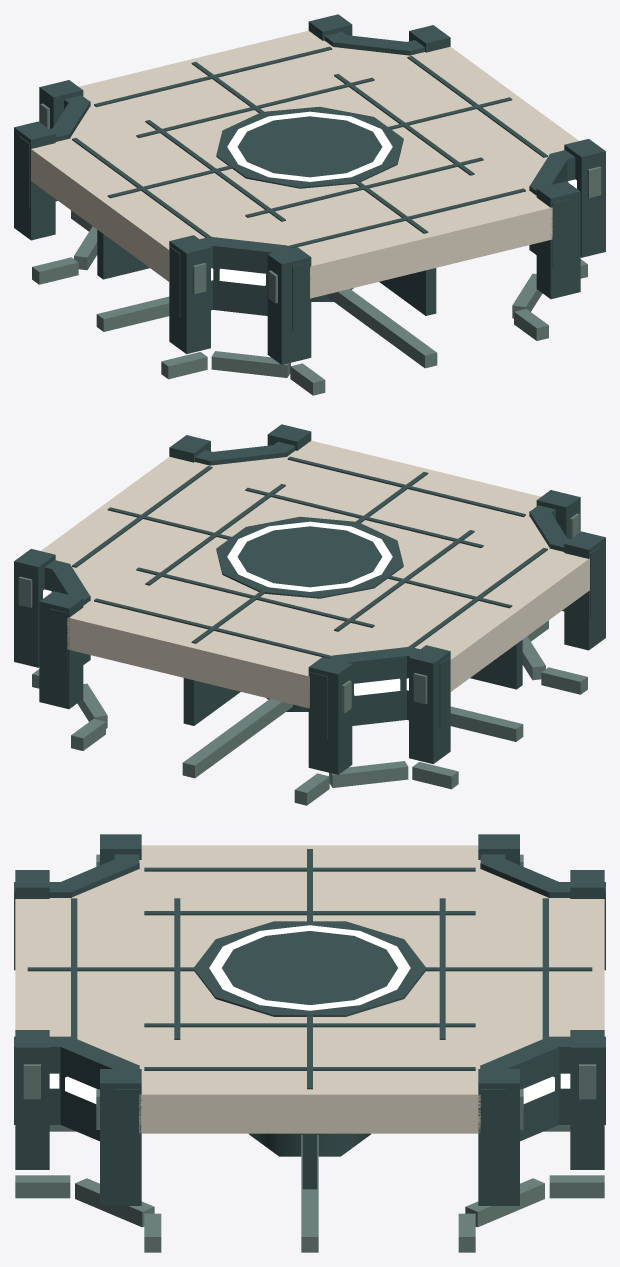
Rendered from Junction_X_lab.glb.
3 views of the same model, one above another, from view 1: azimuth 30°, elevation 25°; view 2: azimuth 150°, elevation 25°; view 3: azimuth 270°, elevation 25° (orthographic). The views are drawn at different scales.
Visible parts, largest first — view 1: Junction_X; view 2: Junction_X; view 3: Junction_X.
Part boxes in pixels (<box>): Junction_X: <box>14,14,605,395</box>; Junction_X: <box>14,424,605,805</box>; Junction_X: <box>14,834,605,1252</box>.
Size of the model in its own units: 4.82 by 1.58 by 4.82.
